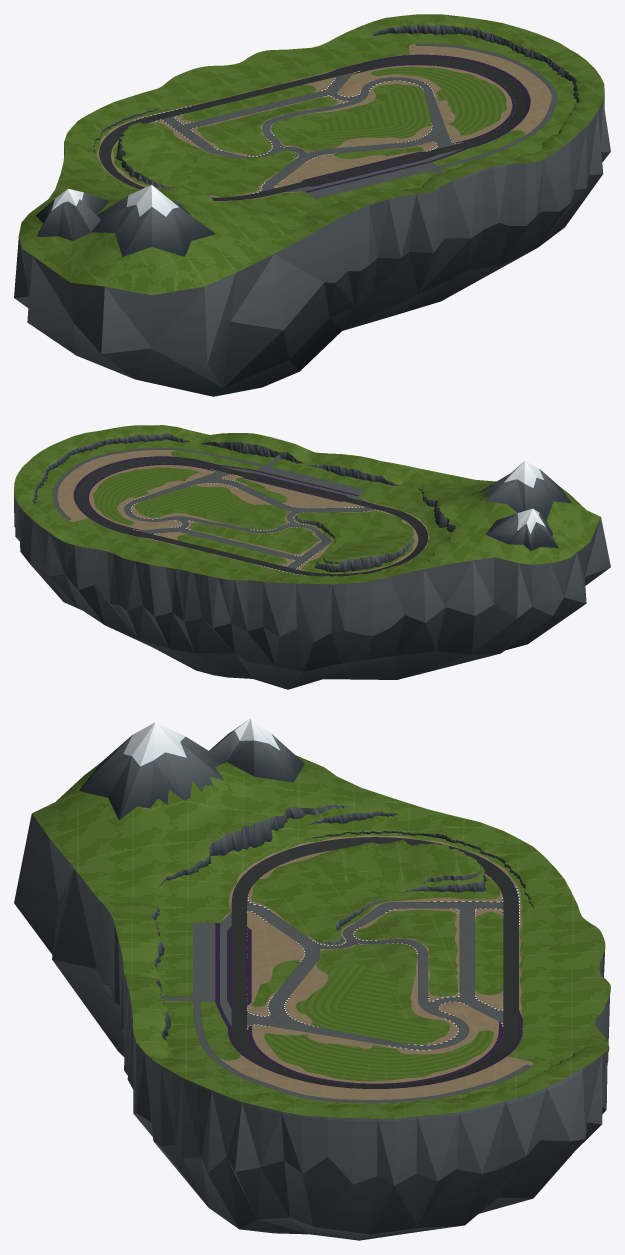
Rendered from oval_mod_terrain.FBX.
The picture shows the model from 3 angles, top to bottom: view 1: azimuth 30°, elevation 25°; view 2: azimuth 150°, elevation 25°; view 3: azimuth 270°, elevation 25°; orthographic projection. The views are drawn at different scales.
Parts seen in each view (by area): view 1: underground, 0GRASS, 1GRASS, Plane001, 1GRAVEL, 1TARMAC_oval, 1TARMAC_inner, 1GRASS_2, 0GRASS2, sand_outside, 1CONCRETE_red, 1TARMAC_back (+4 smaller); view 2: underground, 0GRASS, Plane001, 1GRASS, 1GRAVEL, 1TARMAC_oval, 1TARMAC_inner, 1GRASS_2, 0GRASS2, 1CONCRETE_red, sand_outside, 1TARMAC_back (+4 smaller); view 3: 0GRASS, underground, 1GRASS, Plane001, 1GRAVEL, 1TARMAC_oval, 1TARMAC_inner, 1GRASS_2, 0GRASS2, sand_outside, 1CONCRETE_red, 1TARMAC_back (+4 smaller).
Part boxes in pixels (x1,y1,x2,y2): underground: [14, 92, 610, 396]; 0GRASS: [19, 14, 604, 295]; 1GRASS: [96, 69, 423, 201]; Plane001: [36, 24, 579, 256]; 1GRAVEL: [97, 65, 512, 201]; 1TARMAC_oval: [99, 56, 527, 200]; 1TARMAC_inner: [162, 72, 457, 192]; 1GRASS_2: [316, 84, 445, 147]; 0GRASS2: [371, 67, 506, 135]; sand_outside: [409, 43, 551, 136]; 1CONCRETE_red: [300, 54, 530, 192]; 1TARMAC_back: [415, 43, 557, 174]; underground: [14, 492, 610, 689]; 0GRASS: [14, 425, 600, 584]; Plane001: [32, 433, 571, 572]; 1GRASS: [138, 477, 430, 574]; 1GRAVEL: [89, 465, 429, 576]; 1TARMAC_oval: [76, 458, 427, 576]; 1TARMAC_inner: [124, 470, 377, 568]; 1GRASS_2: [130, 485, 271, 518]; 0GRASS2: [92, 467, 198, 525]; 1CONCRETE_red: [73, 456, 358, 538]; sand_outside: [57, 450, 179, 521]; 1TARMAC_back: [53, 448, 280, 520]; 0GRASS: [32, 755, 610, 1118]; underground: [14, 814, 610, 1240]; 1GRASS: [216, 834, 522, 1029]; Plane001: [79, 718, 573, 1065]; 1GRAVEL: [222, 835, 522, 1083]; 1TARMAC_oval: [231, 837, 518, 1088]; 1TARMAC_inner: [247, 899, 503, 1049]; 1GRASS_2: [296, 964, 449, 1053]; 0GRASS2: [264, 1030, 493, 1081]; sand_outside: [219, 1054, 533, 1099]; 1CONCRETE_red: [215, 923, 522, 1088]; 1TARMAC_back: [162, 995, 532, 1103].
Bounding box in the file's own units: 35016 × 14171 × 22917.
